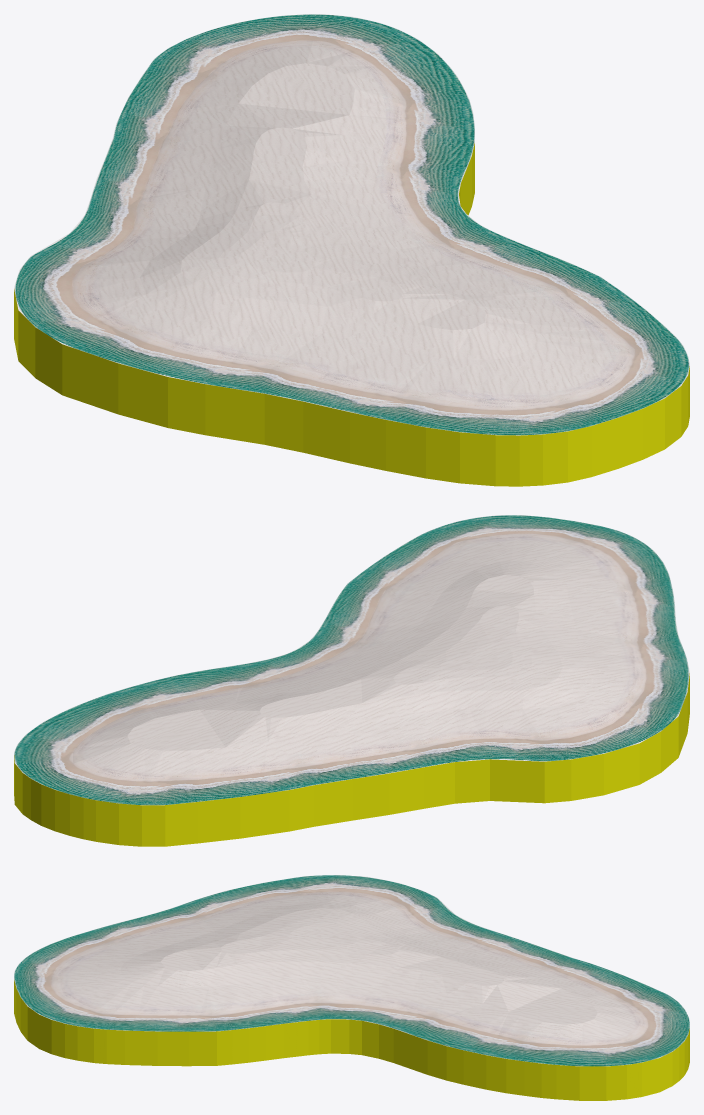
File: Gallery_Sea_2.fbx
3 views of the same model, one above another, from view 1: azimuth 30°, elevation 25°; view 2: azimuth 150°, elevation 25°; view 3: azimuth 270°, elevation 25° (orthographic). The views are drawn at different scales.
Parts seen in each view (by area): view 1: Грунт - Коричневый, Краска - Кадмий Желтый; view 2: Грунт - Коричневый, Краска - Кадмий Желтый; view 3: Грунт - Коричневый, Краска - Кадмий Желтый.
Boxes of the visible parts, x1=… form: Грунт - Коричневый: x1=14, y1=14, x2=689, y2=435; Краска - Кадмий Желтый: x1=14, y1=143, x2=689, y2=486; Грунт - Коричневый: x1=14, y1=515, x2=689, y2=805; Краска - Кадмий Желтый: x1=14, y1=673, x2=689, y2=846; Грунт - Коричневый: x1=14, y1=875, x2=689, y2=1066; Краска - Кадмий Желтый: x1=14, y1=980, x2=689, y2=1100.
Bounding box in the file's own units: 5126 × 7650 × 640.
